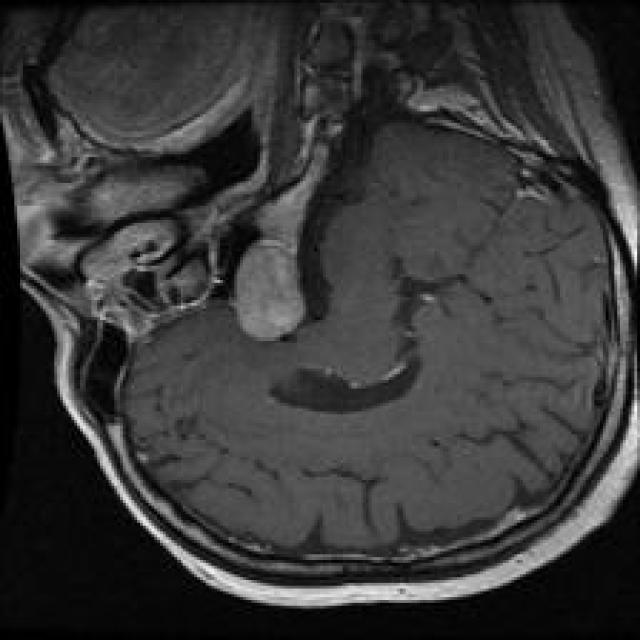pituitary_tumor: (216, 166, 336, 367)
